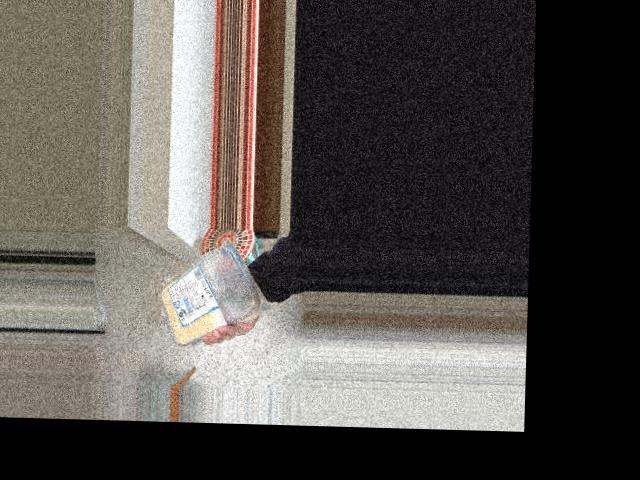cheese: (155, 243, 256, 334)
